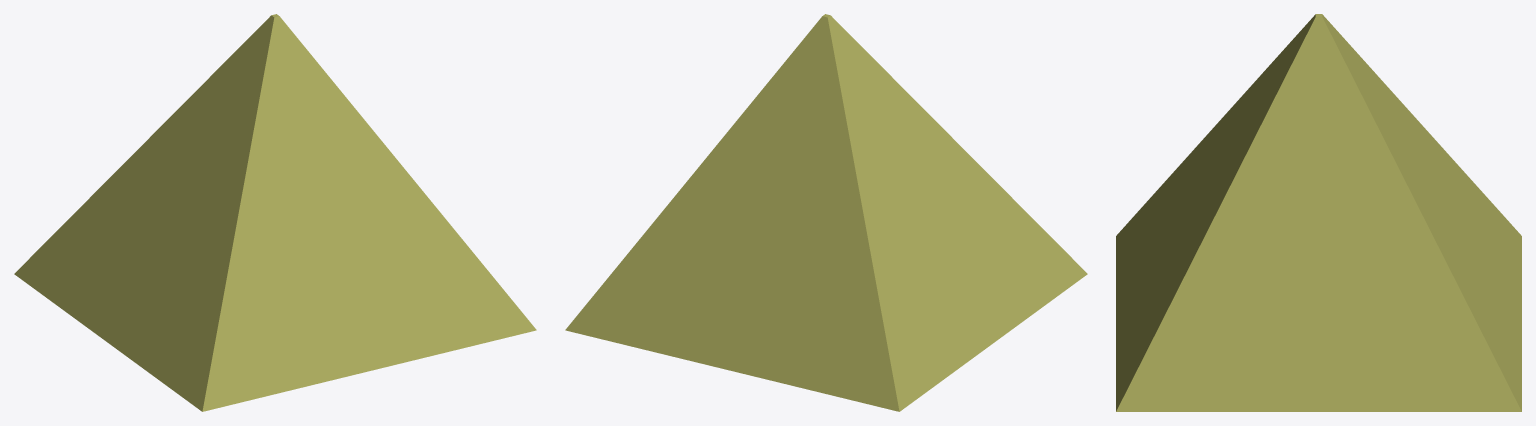
The model's file is üçgen.fbx.
The picture shows the model from 3 angles, left to right: view 1: azimuth 30°, elevation 25°; view 2: azimuth 150°, elevation 25°; view 3: azimuth 270°, elevation 25°; orthographic projection. The views are drawn at different scales.
Visible parts, largest first — view 1: pCube1; view 2: pCube1; view 3: pCube1.
Part boxes in pixels (x1,y1,x2,y2): pCube1: (14,14,536,411); pCube1: (565,14,1087,411); pCube1: (1116,14,1521,411).
Size of the model in its own units: 9.64 by 7.89 by 9.41.
